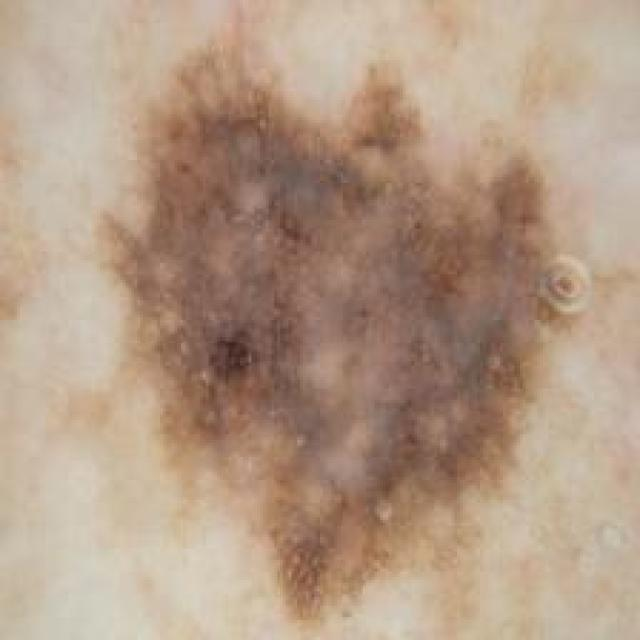Cancer: (92, 2, 596, 628)
